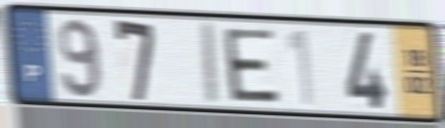1: (286, 28, 315, 108)
4: (343, 27, 392, 113)
7: (112, 16, 157, 104)
9: (55, 15, 105, 100)
E: (220, 26, 283, 106)
I: (201, 17, 224, 108)
